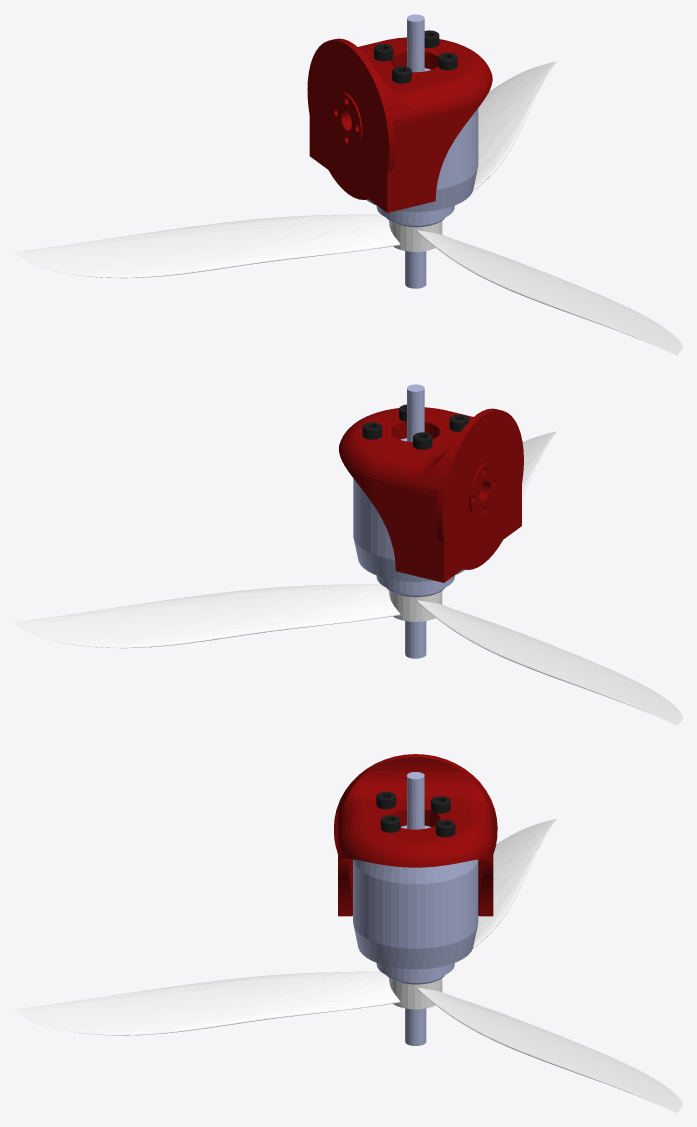
File: omni_rotor_module.dae
3 renders of one model, top to bottom at view 1: azimuth 30°, elevation 25°; view 2: azimuth 150°, elevation 25°; view 3: azimuth 270°, elevation 25°, orthographic.
Parts seen in each view (by area): view 1: Shape_IndexedFaceSet; view 2: Shape_IndexedFaceSet; view 3: Shape_IndexedFaceSet.
Boxes of the visible parts, x1,y1,x2,y2 form: Shape_IndexedFaceSet: [14, 14, 682, 355]; Shape_IndexedFaceSet: [14, 384, 682, 725]; Shape_IndexedFaceSet: [14, 754, 682, 1112].
Size of the model in its own units: 0.1956 by 0.188 by 0.0825.
